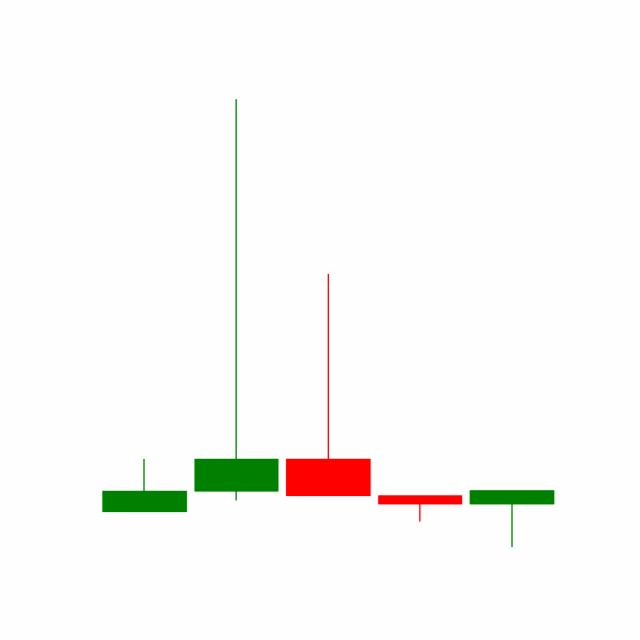Hammer: (464, 488, 558, 548)
